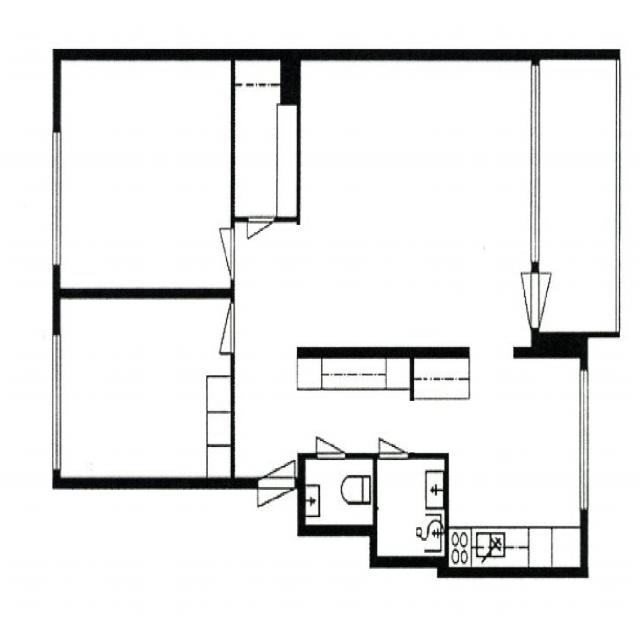door: (493, 272, 539, 327), (531, 272, 577, 327), (257, 424, 294, 487), (257, 477, 294, 540), (195, 227, 235, 278), (196, 303, 235, 352), (378, 411, 408, 458), (316, 411, 345, 458), (246, 216, 273, 260)
